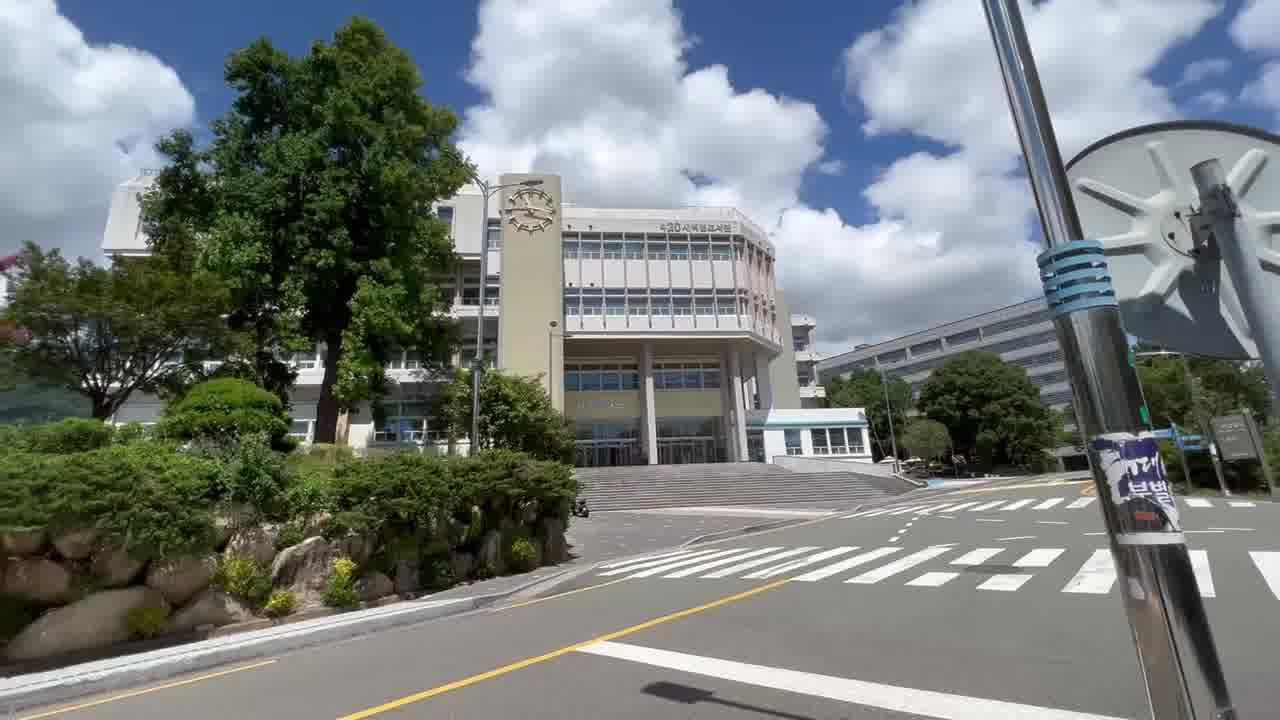building: (480, 174, 847, 454)
